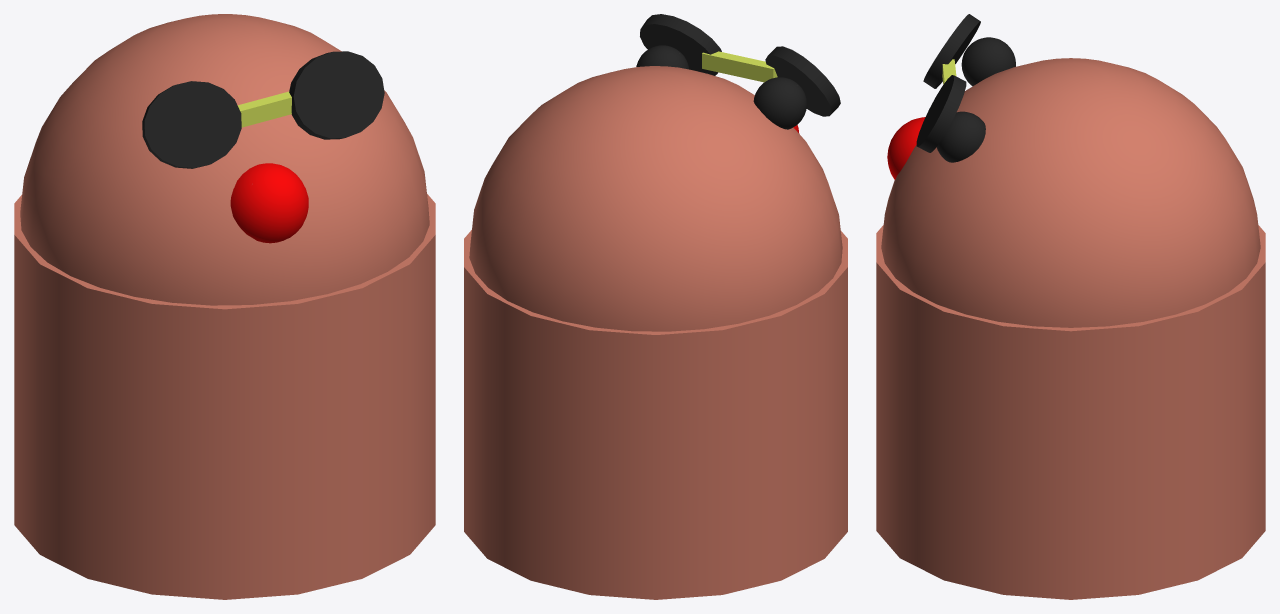
The model's file is mogura.FBX.
3 views of the same model, side by side, from view 1: azimuth 30°, elevation 25°; view 2: azimuth 150°, elevation 25°; view 3: azimuth 270°, elevation 25° (orthographic). The views are drawn at different scales.
Visible parts, largest first — view 1: Cylinder001, Sphere001, Cylinder002, Cylinder003, Sphere002, Box001; view 2: Cylinder001, Sphere001, Cylinder003, Cylinder002, Sphere003, Box001, Sphere004; view 3: Cylinder001, Sphere001, Cylinder003, Sphere003, Sphere004, Cylinder002, Sphere002.
Boxes of the visible parts, <box> form: Cylinder001: <box>14,194,435,599</box>; Sphere001: <box>20,14,429,305</box>; Cylinder002: <box>142,81,241,168</box>; Cylinder003: <box>289,51,384,139</box>; Sphere002: <box>230,163,308,243</box>; Box001: <box>237,91,291,127</box>; Cylinder001: <box>464,230,847,599</box>; Sphere001: <box>469,66,842,331</box>; Cylinder003: <box>640,14,721,75</box>; Cylinder002: <box>765,46,840,116</box>; Sphere003: <box>753,77,806,129</box>; Box001: <box>702,51,777,82</box>; Sphere004: <box>636,45,689,69</box>; Cylinder001: <box>876,225,1265,599</box>; Sphere001: <box>881,58,1260,327</box>; Cylinder003: <box>916,75,966,152</box>; Sphere003: <box>961,37,1015,86</box>; Sphere004: <box>936,111,985,162</box>; Cylinder002: <box>923,14,980,88</box>; Sphere002: <box>887,117,925,179</box>.
Size of the model in its own units: 20 by 19.7 by 25.46.
